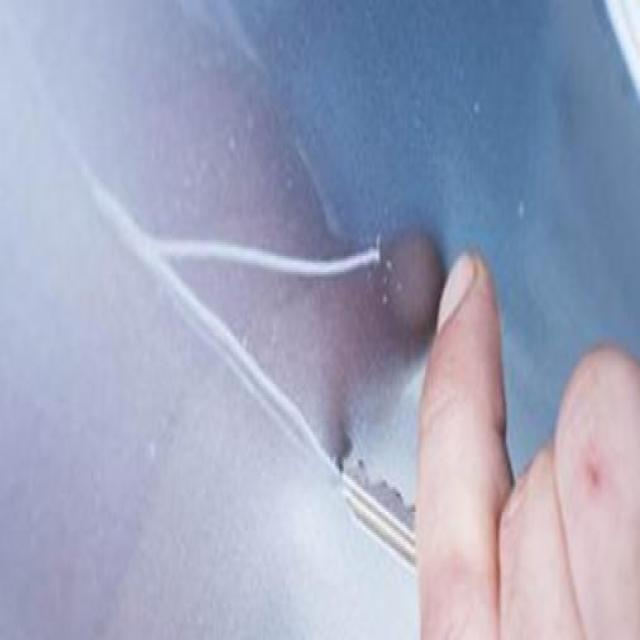scratch: (201, 293, 320, 462), (132, 232, 392, 278)
